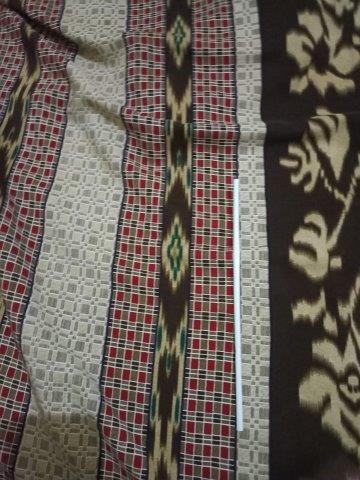sedotan: (232, 179, 242, 431)
